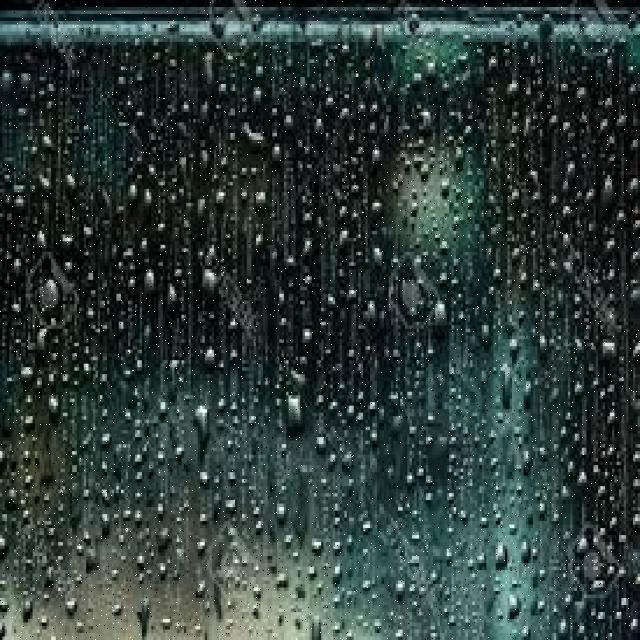raindrop: (190, 374, 237, 464), (22, 264, 76, 322), (232, 102, 282, 164), (480, 569, 530, 631), (190, 251, 234, 319), (584, 158, 624, 232), (277, 378, 313, 454), (493, 346, 530, 416), (122, 585, 168, 640), (357, 275, 392, 345), (478, 514, 514, 578), (594, 322, 626, 378), (338, 426, 366, 485), (434, 288, 464, 339)
